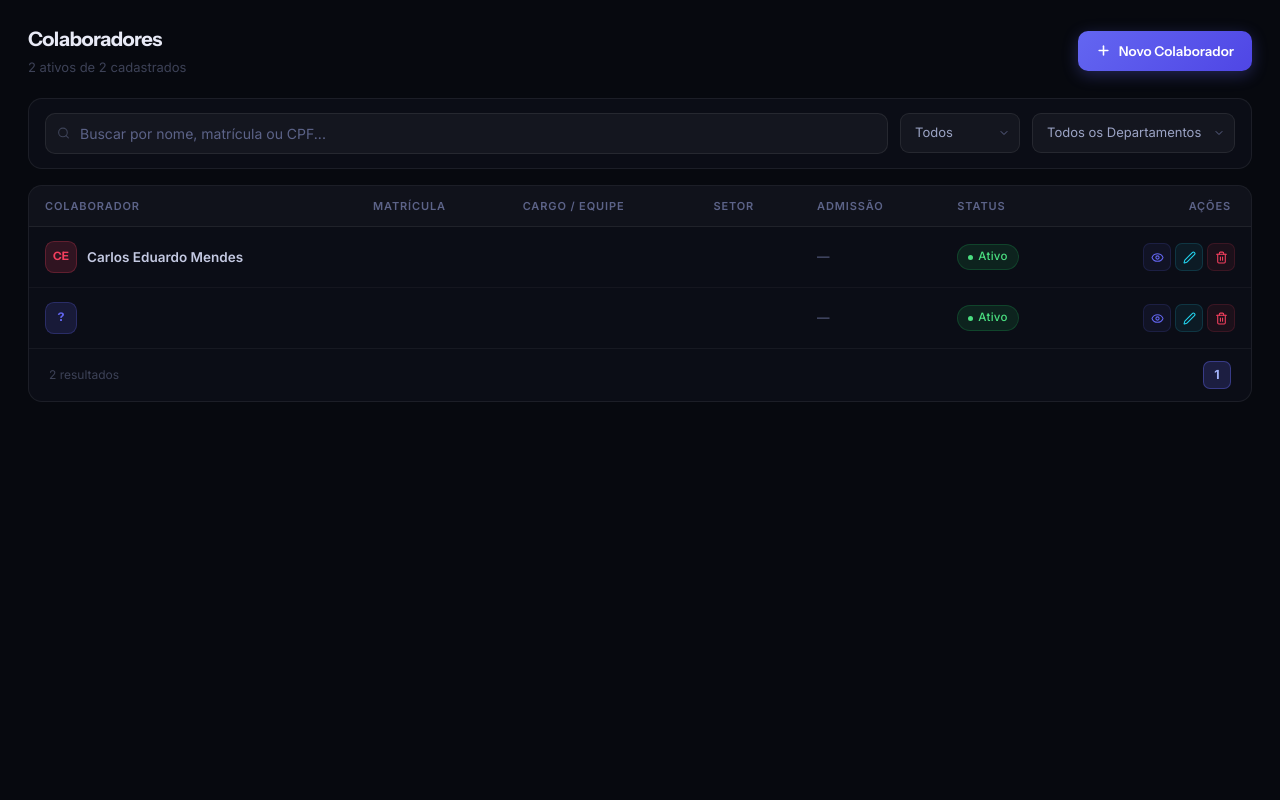
Test: Employees — colaboradores com colunas nulas › abre o histórico do colaborador sem quebrar
What coordinates should you click on to do the following:
click the text "Carlos Eduardo Mendes"
I would click on:
 (165, 257)
Its box is 87,247 -> 243,267.
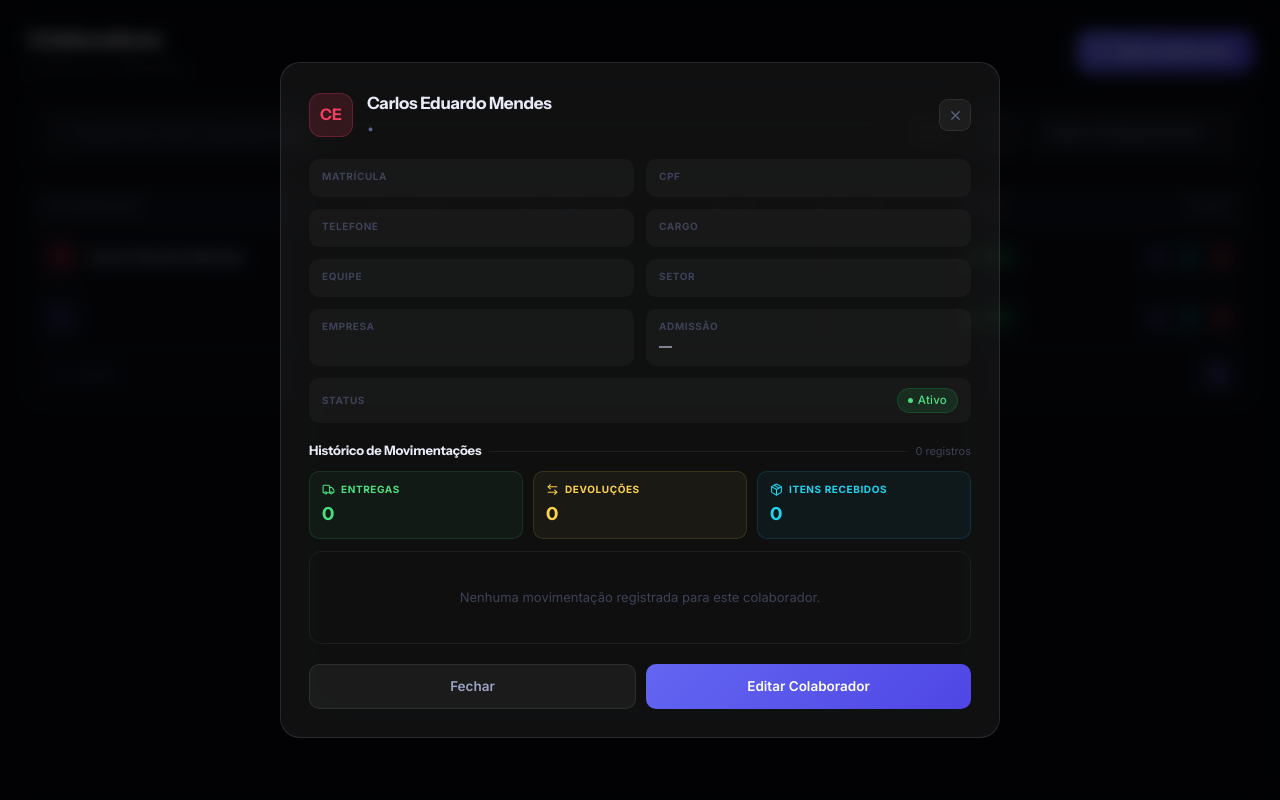
Expected: the heading "Histórico de Movimentações" is shown, 309,441 -> 481,461
Expected: the text "Nenhuma movimentação registrada para este colaborador." is shown, 460,589 -> 820,605
